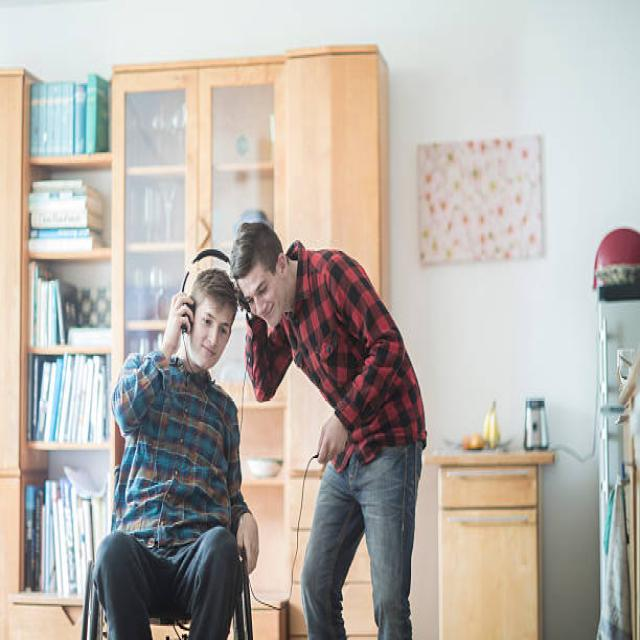Headphone: (180, 248, 251, 336)
